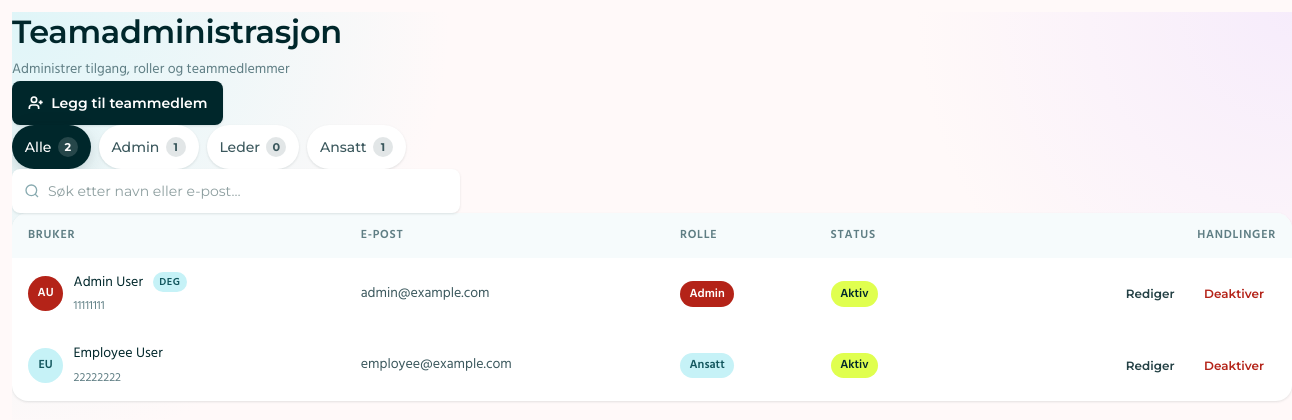
Scenario: UsersView › filters users by role chip
The image size is (1292, 420).
Click the button with class "role-chip" showing "Admin 1".
click(149, 147)  # box top-left (99, 125), bottom-right (199, 169)
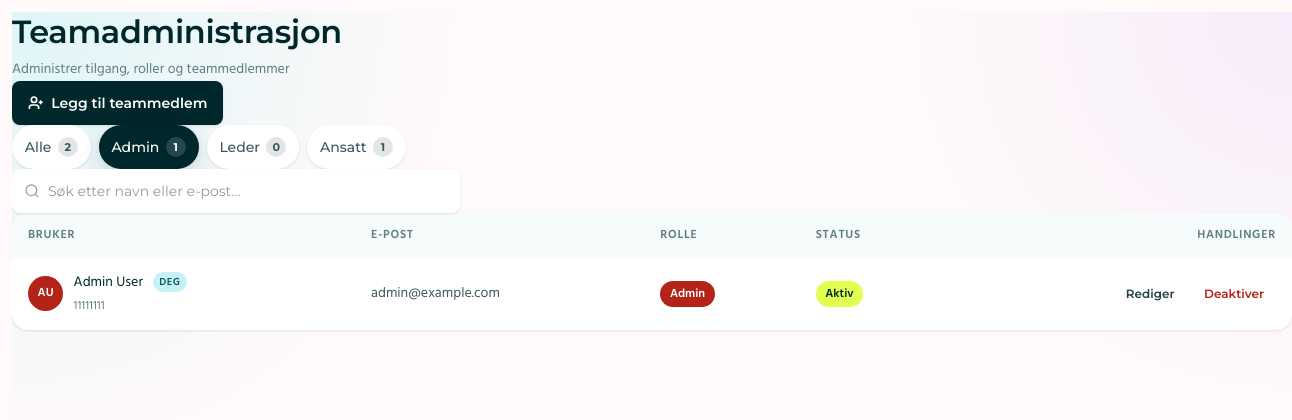
Check: the text "Admin User" is shown, box top-left (74, 271), bottom-right (146, 294)
Check: the text "Employee User" is gone
Click the button with class "role-chip" showing "Ansatt 1".
click(356, 147)  # box top-left (307, 125), bottom-right (406, 169)
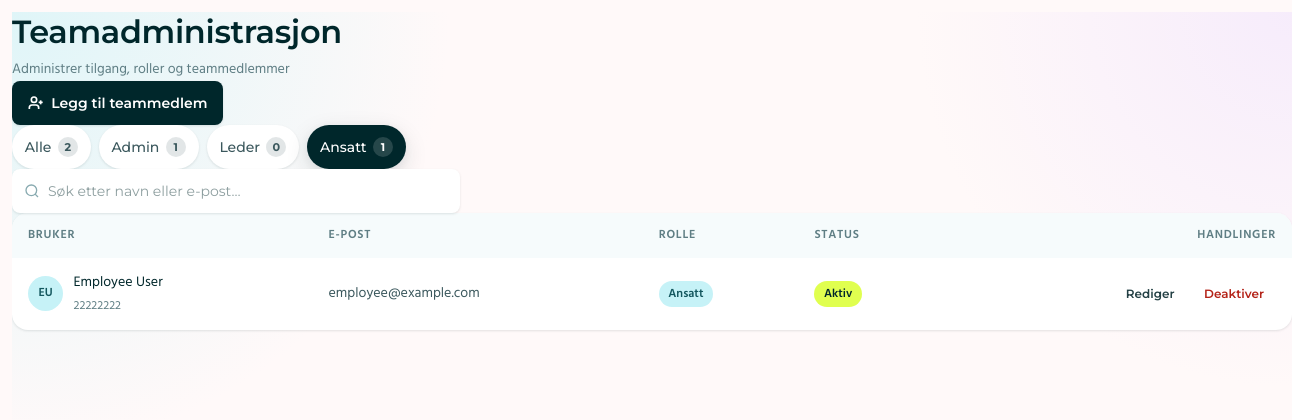
Check: the text "Admin User" is gone
Check: the text "Employee User" is shown, box top-left (74, 271), bottom-right (163, 295)
